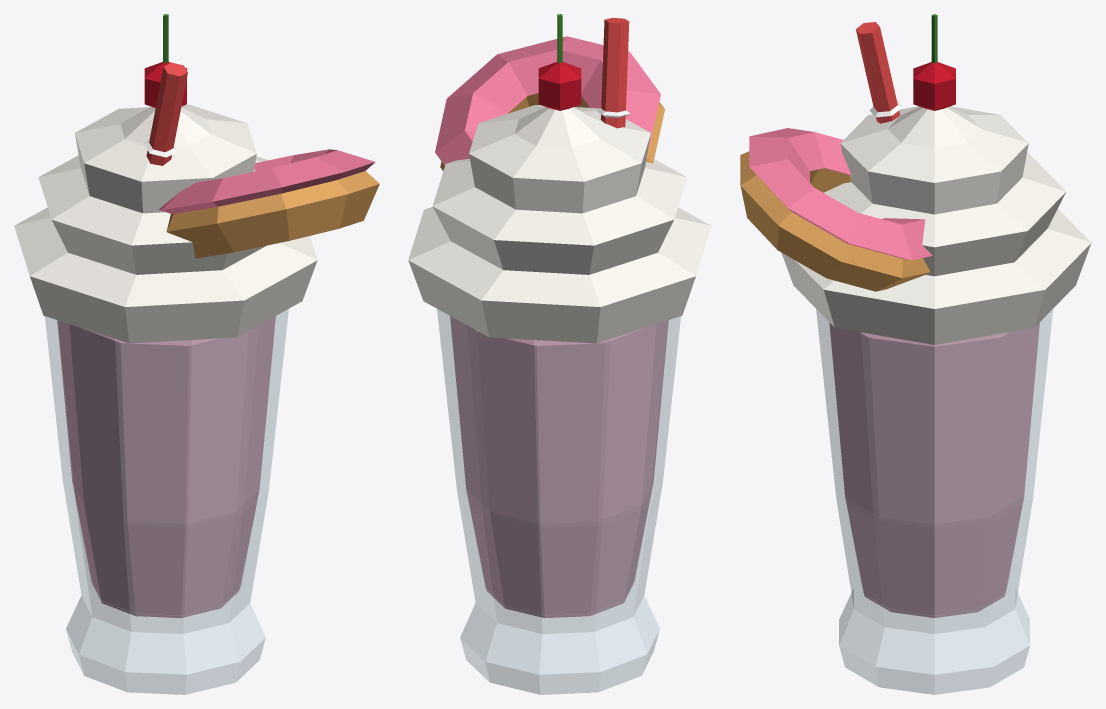
Rendered from food_milkshake.glb.
3 views of the same model, side by side, from view 1: azimuth 30°, elevation 25°; view 2: azimuth 150°, elevation 25°; view 3: azimuth 270°, elevation 25° (orthographic).
Parts seen in each view (by area): view 1: food_milkshake; view 2: food_milkshake; view 3: food_milkshake.
Boxes of the visible parts, x1=… form: food_milkshake: x1=14, y1=14, x2=379, y2=694; food_milkshake: x1=408, y1=14, x2=711, y2=694; food_milkshake: x1=740, y1=14, x2=1091, y2=694.
Bounding box in the file's own units: 0.1072 × 0.225 × 0.1119.
